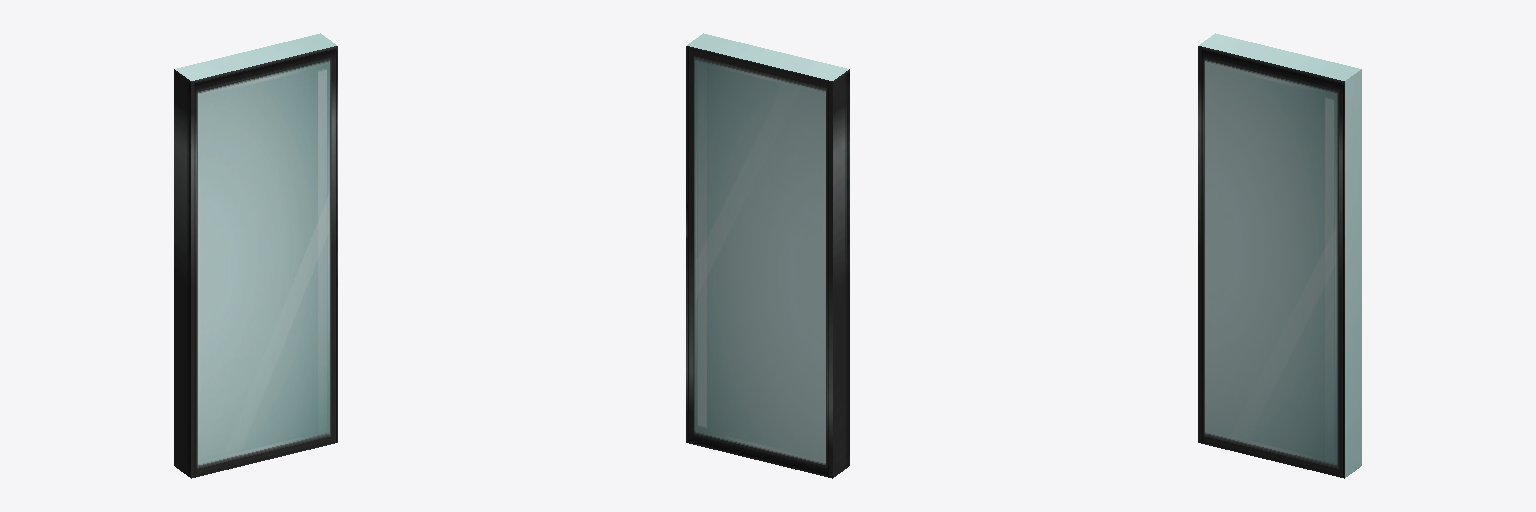
3 renders of one model, left to right at view 1: azimuth 30°, elevation 25°; view 2: azimuth 150°, elevation 25°; view 3: azimuth 330°, elevation 25°, orthographic.
Parts seen in each view (by area): view 1: Corrediza2_Corrediza; view 2: Corrediza2_Corrediza; view 3: Corrediza2_Corrediza.
Part boxes in pixels (x1,y1,x2,y2): Corrediza2_Corrediza: (174,33,337,478); Corrediza2_Corrediza: (686,33,849,478); Corrediza2_Corrediza: (1198,33,1361,478).
Bounding box in the file's own units: 0.86 × 2.23 × 0.17.
Materials: 1 (1 with a texture image).